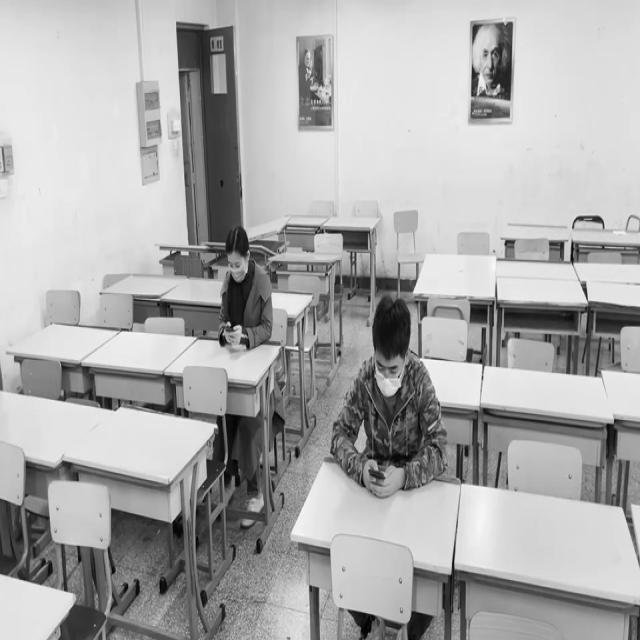phone: (331, 298, 449, 495), (215, 225, 274, 346)
